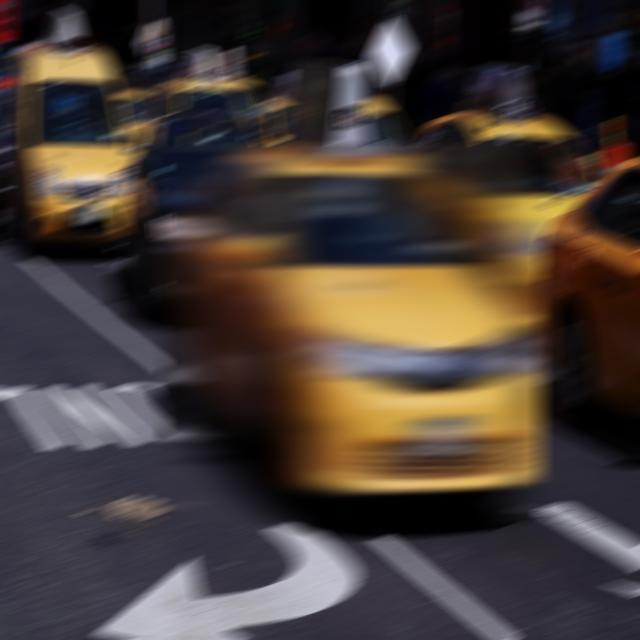Taxi: (161, 144, 544, 522)
